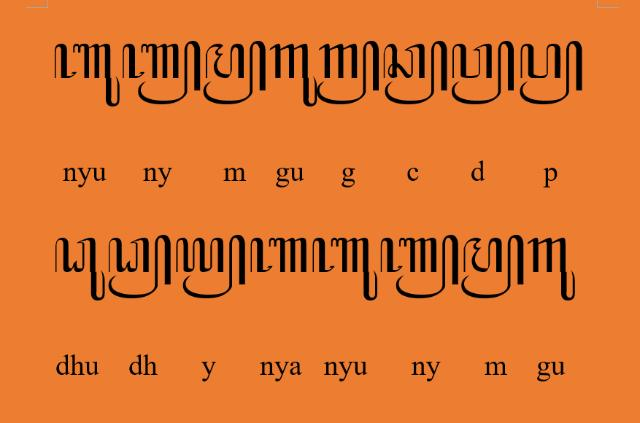-c: (382, 40, 448, 106)
-d: (451, 40, 515, 106)
-dh: (108, 234, 172, 300)
-g: (316, 40, 379, 106)
-m: (461, 234, 525, 300), (204, 40, 266, 106)
-ny: (122, 40, 202, 104), (379, 235, 459, 299)
-p: (520, 40, 584, 106)
-y: (176, 234, 247, 300)
dhu: (54, 237, 106, 301)
gu: (526, 237, 576, 301), (270, 42, 318, 107)
ny1: (250, 234, 308, 272)
nyu1: (54, 42, 120, 107), (312, 238, 378, 300)
